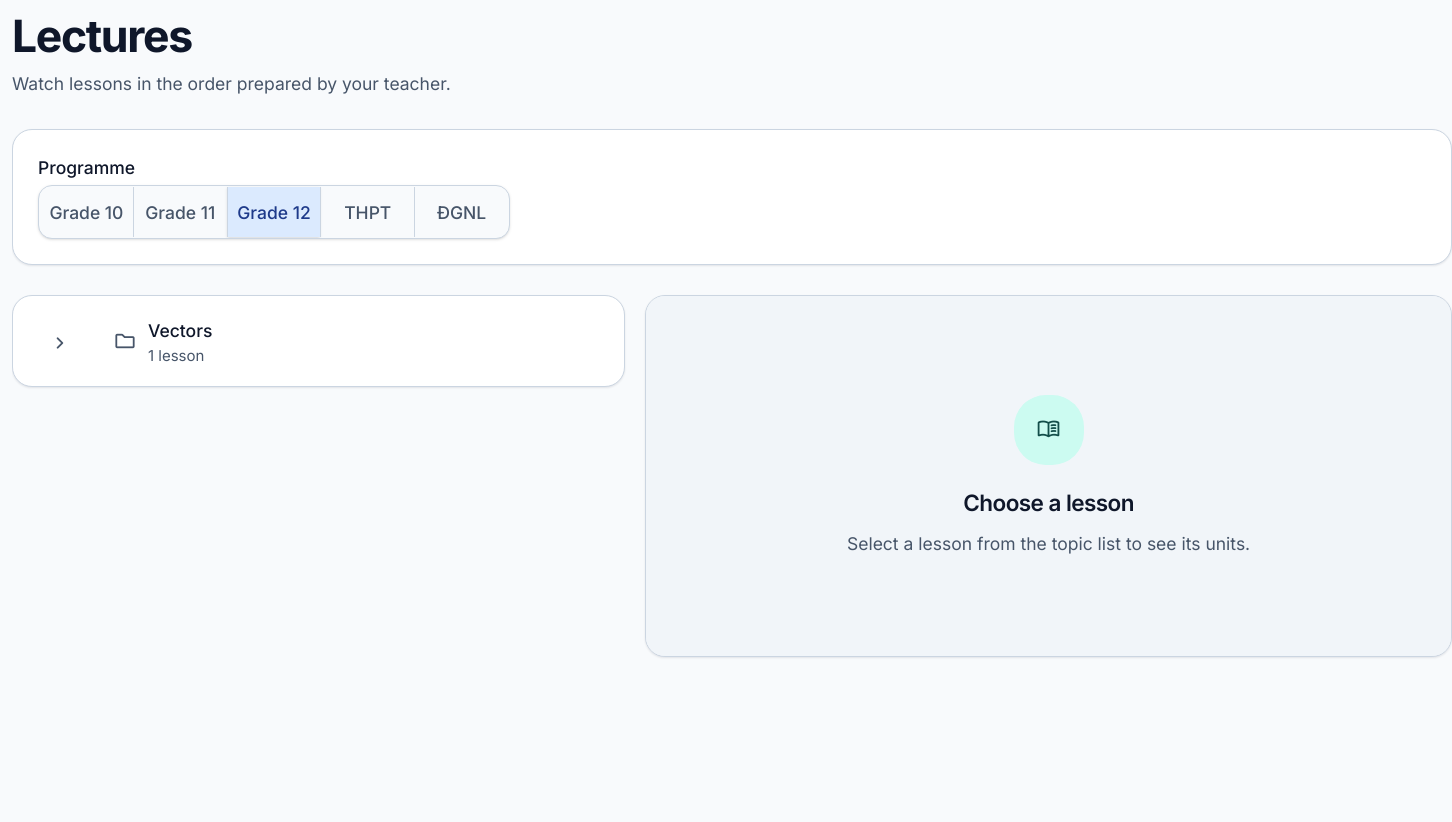
Test: StudentLecturesPage curriculum browser › shows the shared curriculum explorer from the actual API response shape
Expected: the button with aria-label "Vectors, 1 lesson" is shown, 98,306 -> 609,376
What coordinates should you click on to do the following:
click the button named "Expand Vectors"
I would click on:
 (58, 341)
Its box is 28,311 -> 88,371.
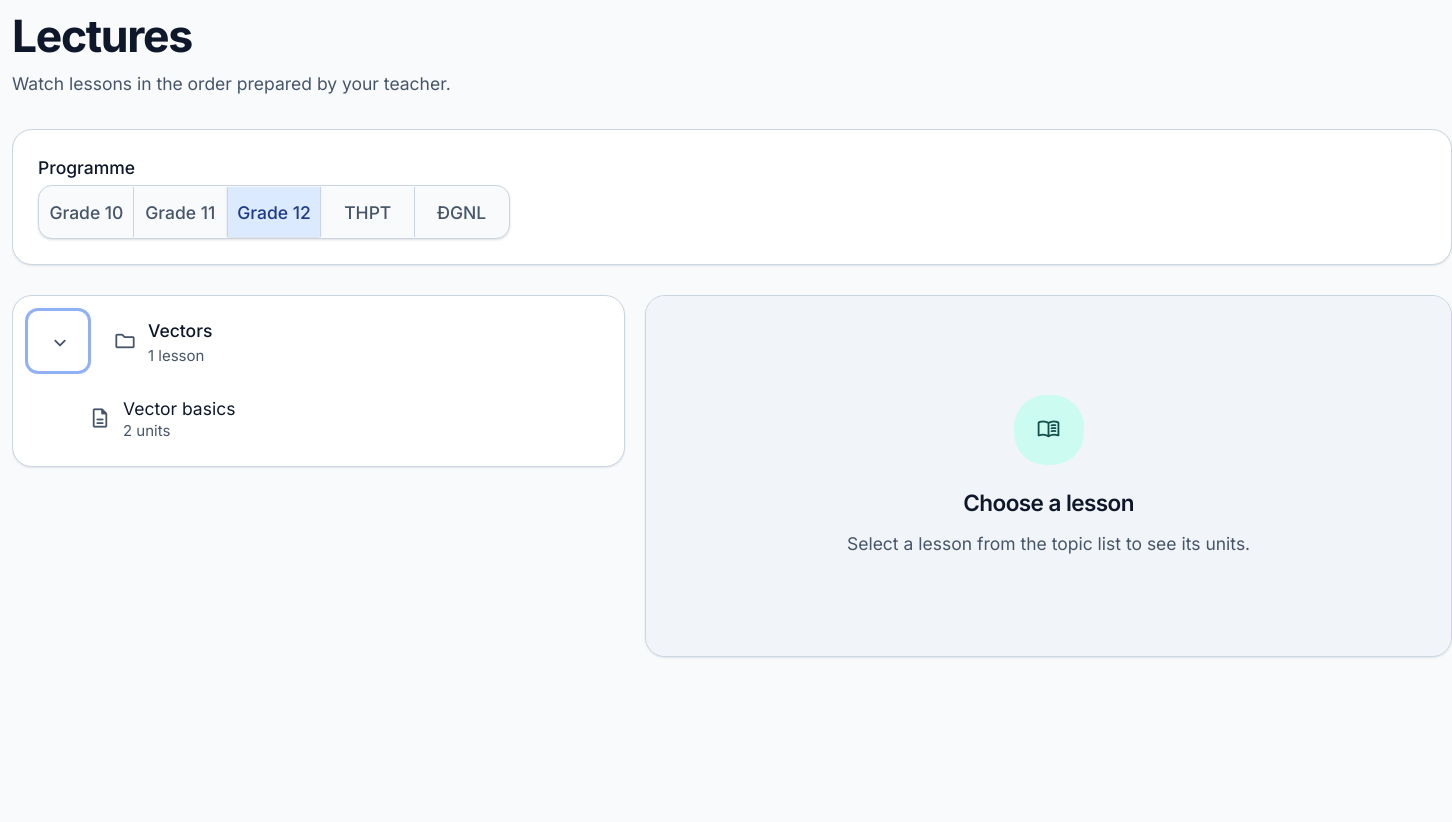
Expected: the heading "Choose a lesson" is shown, 963,484 -> 1134,520
Now the button with aria-label "Vector basics, 2 units" is shown, box 73,386 -> 604,451
